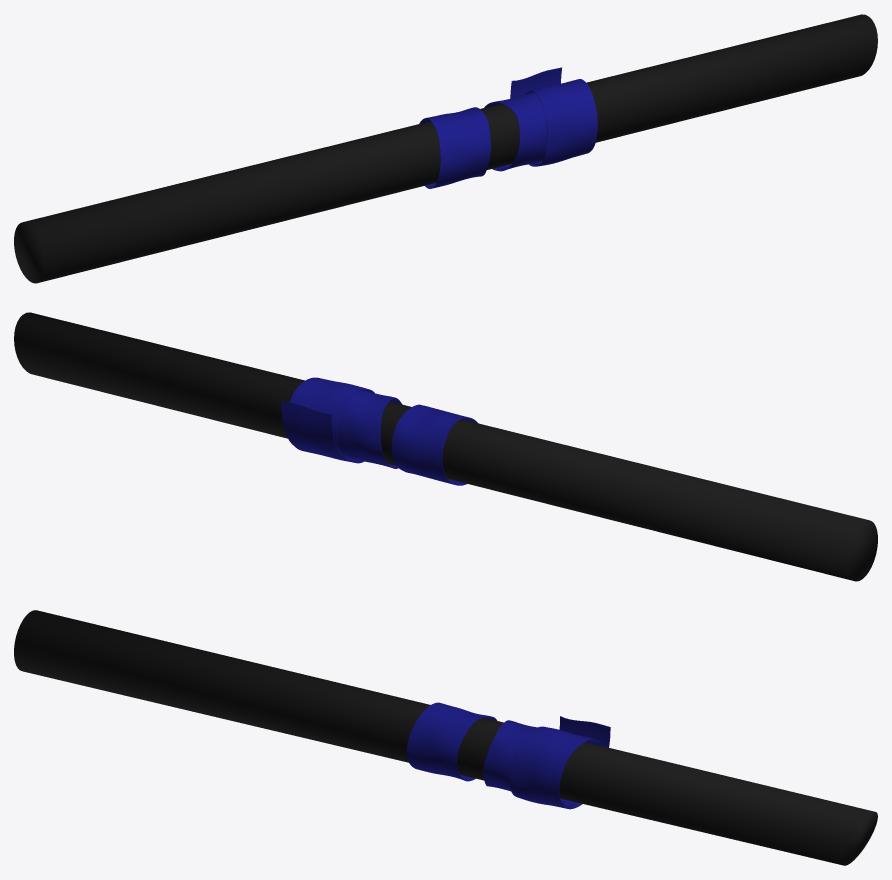
The model's file is cable.fbx.
The picture shows the model from 3 angles, top to bottom: view 1: azimuth 30°, elevation 25°; view 2: azimuth 150°, elevation 25°; view 3: azimuth 330°, elevation 25°; orthographic projection.
Visible parts, largest first — view 1: Cylinder063.002, Tube002.001; view 2: Cylinder063.002, Tube002.001; view 3: Cylinder063.002, Tube002.001.
Part boxes in pixels (x1,y1,x2,y2): Cylinder063.002: [14, 14, 877, 283]; Tube002.001: [419, 67, 597, 188]; Cylinder063.002: [14, 312, 877, 581]; Tube002.001: [281, 377, 477, 485]; Cylinder063.002: [14, 610, 877, 865]; Tube002.001: [406, 702, 610, 809].
Size of the model in its own units: 1265 by 102 by 115.
